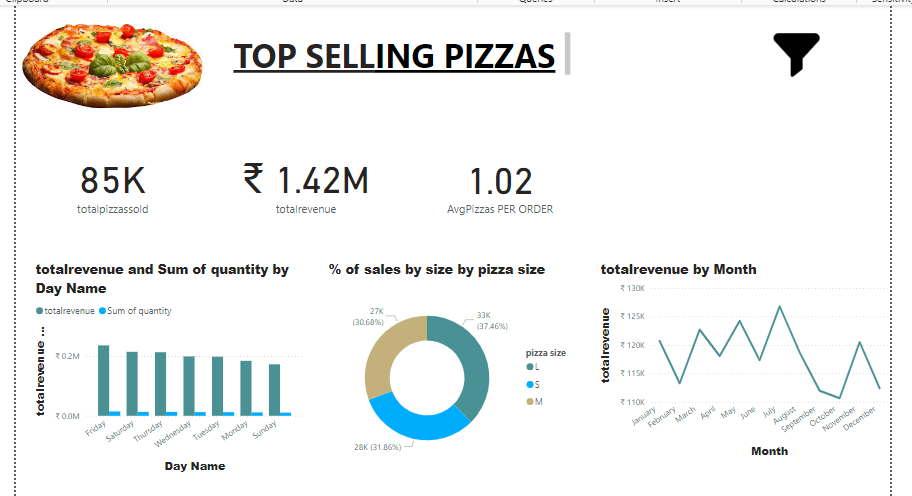

This screenshot's page, from the dashboard's own definition file:
{"tool":"powerbi","page":{"name":"Page 1","canvas":[1280,720],"ordinal":0},"visuals":[{"type":"clusteredColumnChart","fields":{"Category":["orders.Day Name"],"Y":["order_details.totalrevenue","Sum(order_details.quantity)"]},"box":[23.3,373.3,401.7,318.3],"z":0},{"type":"image","box":[1065,26.7,153.3,90],"z":500,"group":"g1"},{"type":"card","fields":{"Values":["order_details.totalpizzassold"]},"box":[30,190,221.7,140],"z":1000},{"type":"card","fields":{"Values":["order_details.totalrevenue"]},"box":[281.7,190,286.7,140],"z":2000},{"type":"donutChart","fields":{"Category":["order_details.pizza size"],"Y":["Sum(order_details.quantity)"]},"box":[451.7,373.3,376.7,318.3],"z":3000},{"type":"textbox","box":[313.2,35.1,503.4,73.2],"z":4000},{"type":"image","box":[0,0,282.4,178.5],"z":5000},{"type":"group","id":"g1","title":"Group 1","box":[1065,26.7,153.3,90],"z":6000},{"type":"card","fields":{"Values":["order_details.AvgPizzas"]},"box":[588.3,178.3,240,140],"z":7500},{"type":"lineChart","fields":{"Y":["order_details.totalrevenue"],"Category":["orders.date.Variation.Date Hierarchy.Month"]},"box":[850,446.7,430,221.7],"z":8000}]}

Visuals, with their boxes on the page's 1280x720 design canvas (x1, y1, x2, y2). These are canvas units, not pixel positions in the 912x496 screenshot, which may show the page scaled, cropped or inside an application window:
clusteredColumnChart - orders.Day Name x order_details.totalrevenue: (x1=23, y1=373, x2=425, y2=692)
image: (x1=1065, y1=27, x2=1218, y2=117)
card - order_details.totalpizzassold: (x1=30, y1=190, x2=252, y2=330)
card - order_details.totalrevenue: (x1=282, y1=190, x2=568, y2=330)
donutChart - order_details.pizza size x Sum(order_details.quantity): (x1=452, y1=373, x2=828, y2=692)
textbox: (x1=313, y1=35, x2=817, y2=108)
image: (x1=0, y1=0, x2=282, y2=178)
"Group 1" group: (x1=1065, y1=27, x2=1218, y2=117)
card - order_details.AvgPizzas: (x1=588, y1=178, x2=828, y2=318)
lineChart - order_details.totalrevenue x orders.date.Variation.Date Hierarchy.Month: (x1=850, y1=447, x2=1280, y2=668)
